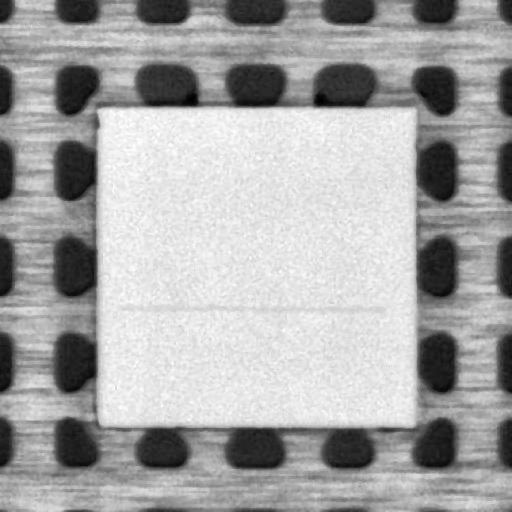DIE_CRACK: (114, 294, 384, 316)
